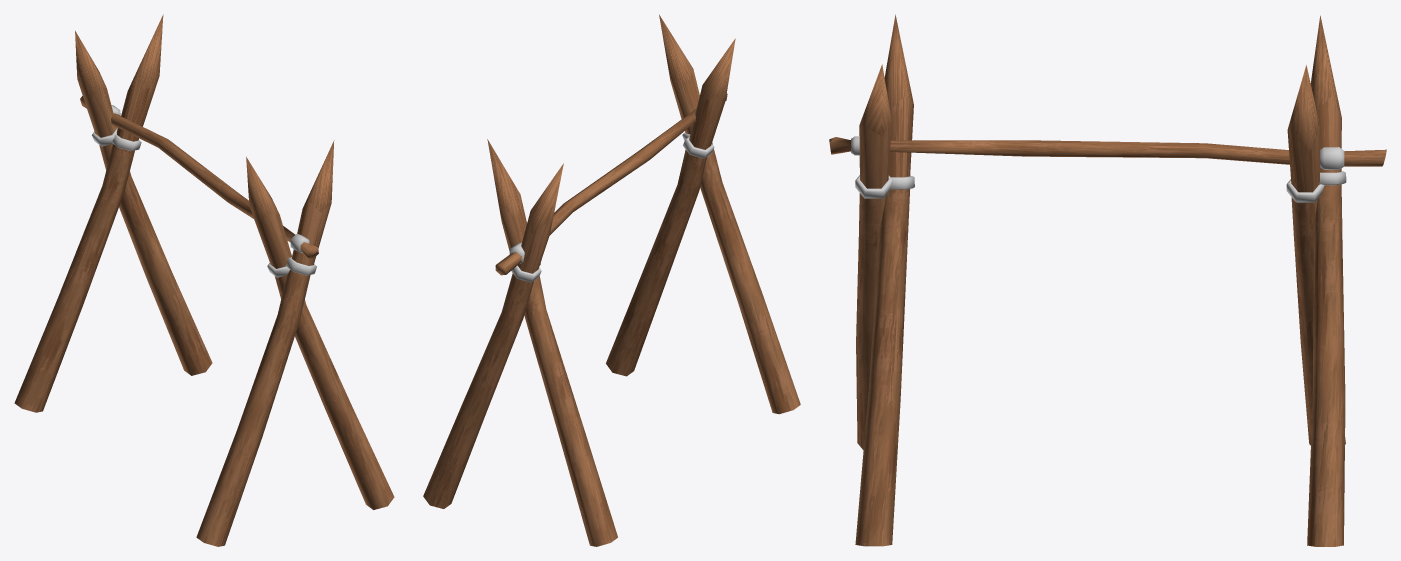
Rendered from Wooden Hang_1.fbx.
3 views of the same model, side by side, from view 1: azimuth 30°, elevation 25°; view 2: azimuth 150°, elevation 25°; view 3: azimuth 270°, elevation 25° (orthographic). The views are drawn at different scales.
Parts seen in each view (by area): view 1: Wooden Hang_1; view 2: Wooden Hang_1; view 3: Wooden Hang_1.
Part boxes in pixels (bbox=[...]): Wooden Hang_1: bbox=[14, 14, 394, 546]; Wooden Hang_1: bbox=[423, 14, 800, 546]; Wooden Hang_1: bbox=[829, 14, 1386, 546].
Bounding box in the file's own units: 1.17 × 2.18 × 2.39.
